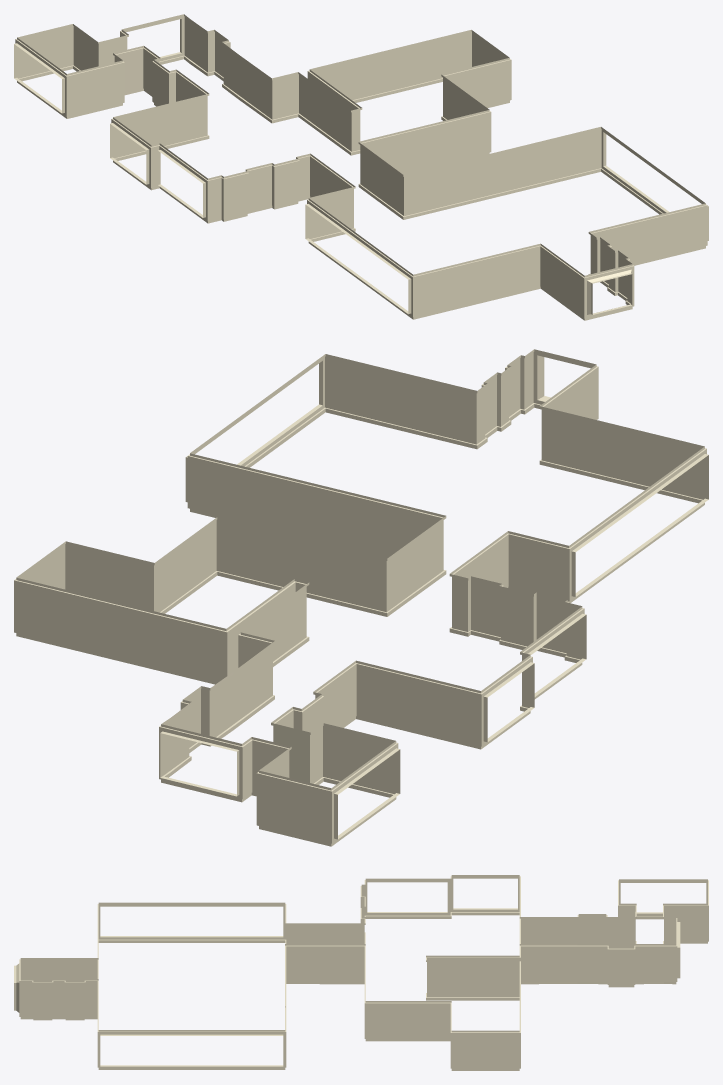
The model's file is Walls02.FBX.
3 views of the same model, one above another, from view 1: azimuth 30°, elevation 25°; view 2: azimuth 150°, elevation 25°; view 3: azimuth 270°, elevation 25° (orthographic). The views are drawn at different scales.
Visible parts, largest first — view 1: Box027; view 2: Box027; view 3: Box027.
Part boxes in pixels (box(x1,y1,x2,y2)): Box027: box(14, 14, 708, 320); Box027: box(14, 349, 708, 846); Box027: box(14, 875, 708, 1070).
Size of the model in its own units: 3595 by 425 by 6666.
